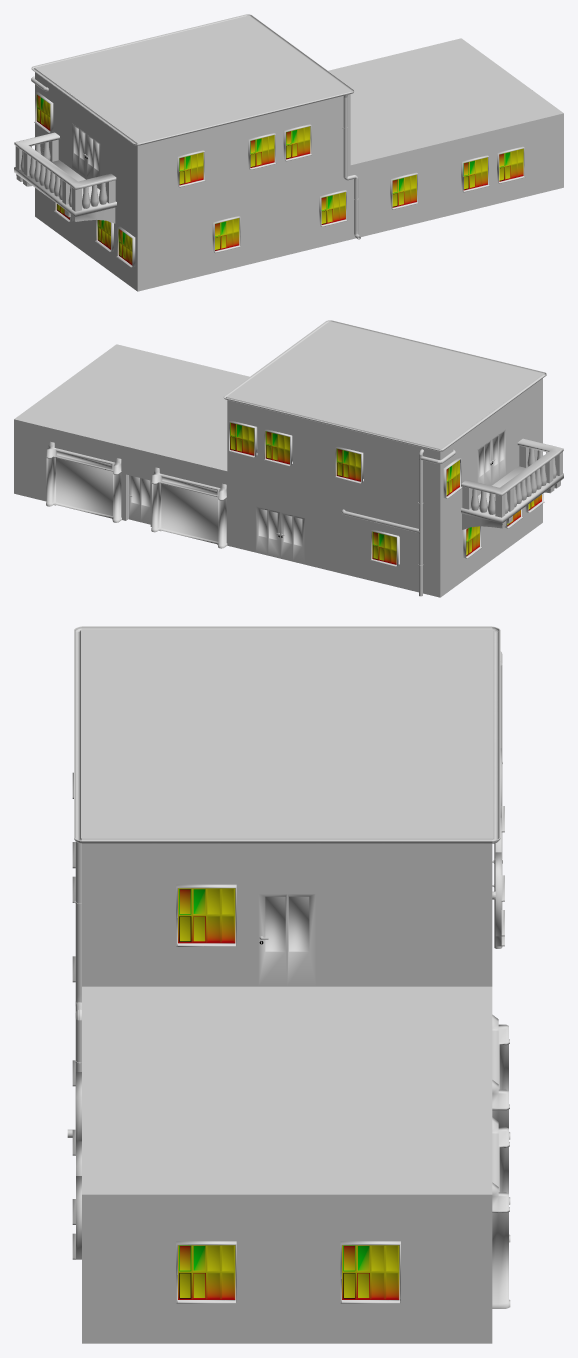
File: building_plus_shop.fbx
3 renders of one model, top to bottom at view 1: azimuth 30°, elevation 25°; view 2: azimuth 150°, elevation 25°; view 3: azimuth 270°, elevation 25°, orthographic. The views are drawn at different scales.
Visible parts, largest first — view 1: Object107, soffitto001, Object125, finestra_008, balcone007, finestra_005, tubature_007, porta_005, tubature_006, tubature_005, tubature_008; view 2: soffitto001, Object124, shop_window02_LP001, Object125, balcone007, finestra_006, porta_006, tubature_006, finestra_005, porta_005, tubature_007, tubature_005 (+1 smaller); view 3: soffitto001, Object110, finestra_007, porta_007, shop_window02_LP001, tubature_007, tubature_006, tubature_008, finestra_008, tubature_005, finestra_006.
Part boxes in pixels (x1,y1,x2,y2): Object107: [137, 94, 563, 291]; soffitto001: [35, 16, 563, 164]; Object125: [35, 72, 137, 291]; finestra_008: [177, 124, 524, 252]; balcone007: [14, 132, 116, 223]; finestra_005: [34, 92, 135, 267]; tubature_007: [132, 88, 360, 239]; porta_005: [72, 123, 100, 189]; tubature_006: [31, 14, 253, 82]; tubature_005: [33, 69, 134, 142]; tubature_008: [250, 16, 351, 89]; soffitto001: [14, 322, 542, 470]; Object124: [14, 400, 440, 597]; shop_window02_LP001: [46, 441, 227, 548]; Object125: [440, 378, 542, 597]; balcone007: [461, 438, 563, 529]; finestra_006: [228, 420, 398, 566]; porta_006: [128, 475, 305, 564]; tubature_006: [223, 394, 445, 596]; finestra_005: [443, 457, 544, 558]; porta_005: [477, 429, 505, 495]; tubature_007: [324, 320, 546, 376]; tubature_005: [443, 375, 544, 461]; soffitto001: [82, 630, 492, 1194]; Object110: [82, 844, 492, 1343]; finestra_007: [176, 884, 400, 1303]; porta_007: [258, 893, 315, 986]; shop_window02_LP001: [492, 1014, 510, 1308]; tubature_007: [67, 626, 90, 1137]; tubature_006: [484, 626, 502, 948]; tubature_008: [90, 838, 484, 843]; finestra_008: [72, 772, 81, 1259]; tubature_005: [90, 626, 483, 629]; finestra_006: [495, 748, 504, 946].
Bounding box in the file's own units: 26.57 × 8.07 × 10.79.
